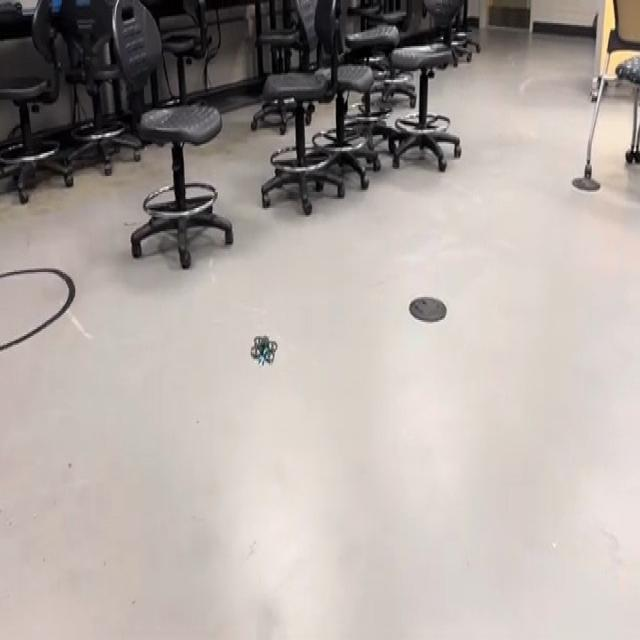drone: (244, 320, 288, 380)
